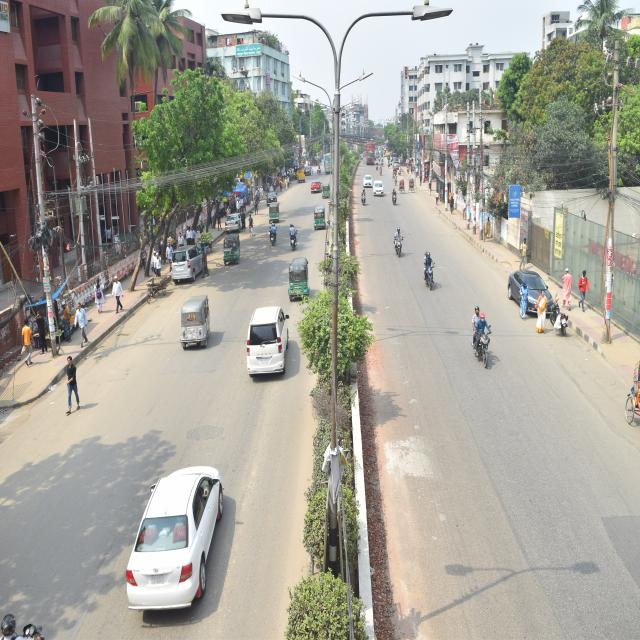bus: (364, 140, 383, 170)
car: (122, 458, 218, 618), (243, 302, 296, 385), (500, 261, 551, 320), (222, 206, 239, 235), (313, 174, 325, 195), (372, 178, 382, 197), (359, 172, 371, 186)
microbus: (156, 236, 206, 285)
motorbike: (466, 303, 494, 355), (547, 284, 570, 344), (390, 222, 417, 272), (416, 245, 435, 304), (260, 219, 278, 255), (386, 186, 399, 216), (358, 180, 369, 214)
